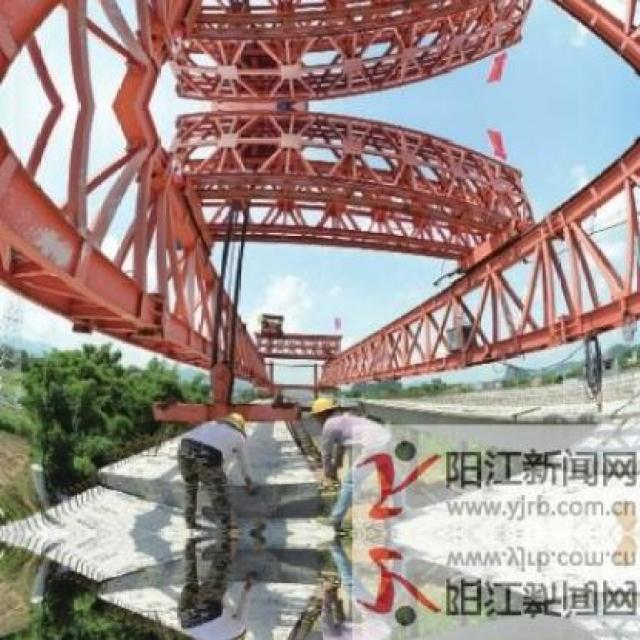helmet: (307, 394, 339, 425)
